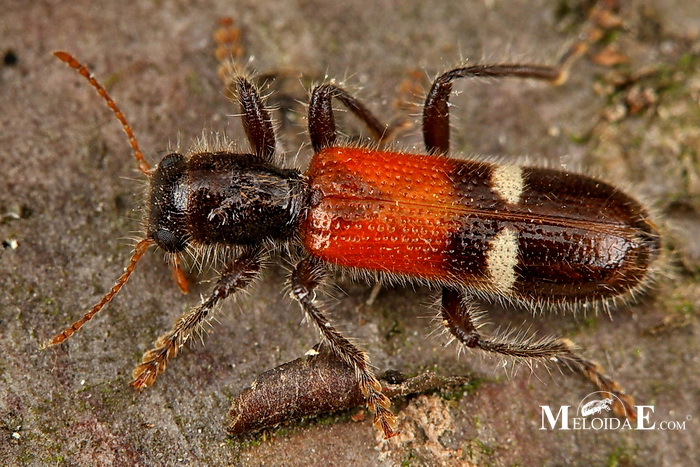opilo_taeniatus: (37, 39, 664, 445)
